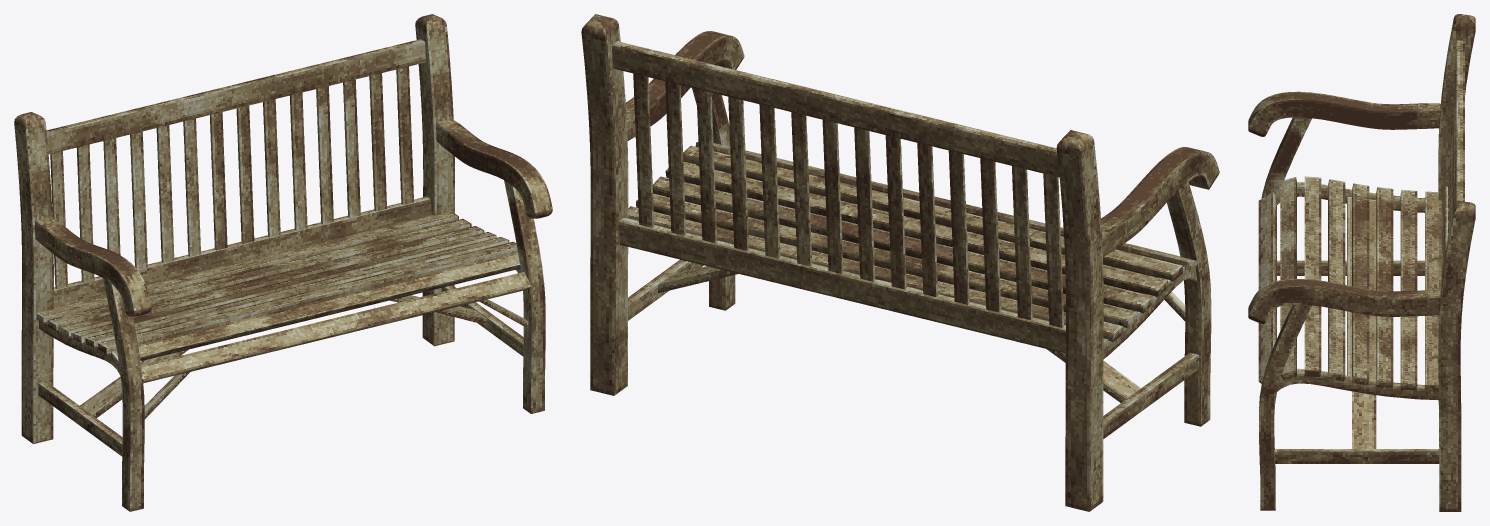
File: bench_street.glb
3 renders of one model, left to right at view 1: azimuth 30°, elevation 25°; view 2: azimuth 150°, elevation 25°; view 3: azimuth 270°, elevation 25°, orthographic. The views are drawn at different scales.
Parts seen in each view (by area): view 1: mesh; view 2: mesh; view 3: mesh.
Boxes of the visible parts, box(x1,y1,x2,y2) form: mesh: box(14, 14, 552, 511); mesh: box(581, 14, 1219, 511); mesh: box(1248, 14, 1475, 511).
Size of the model in its own units: 0.6238 by 0.45 by 0.3054.
Materials: 1 (1 with a texture image).
